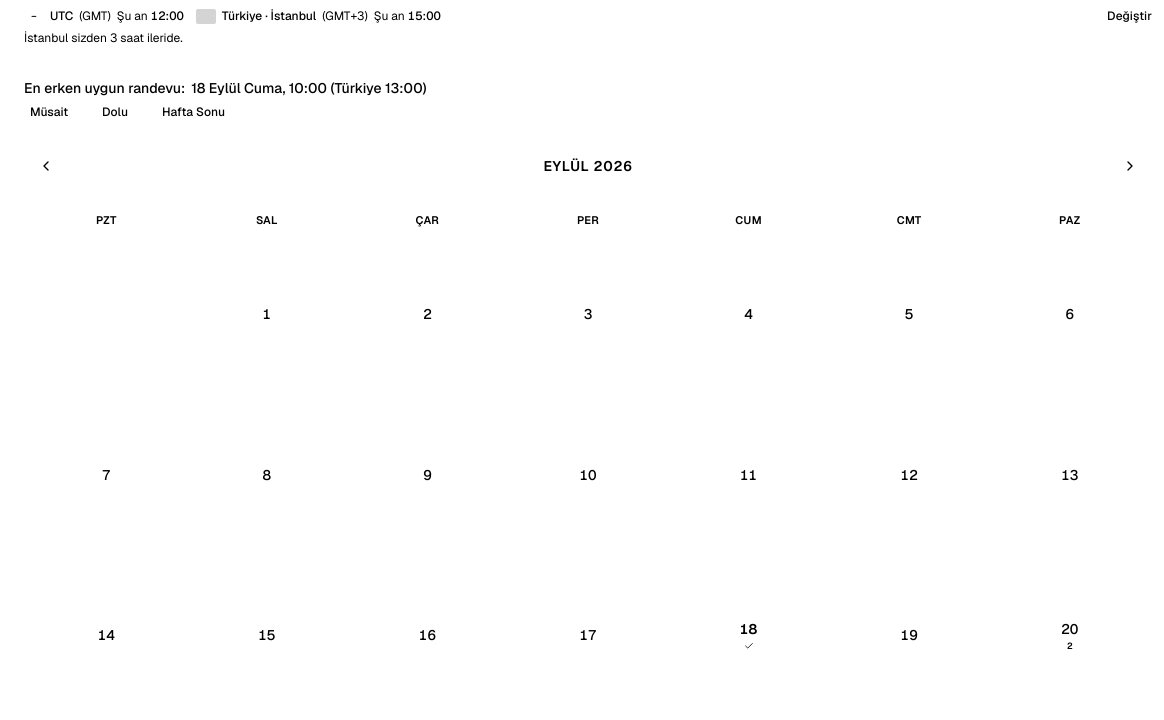
Test case: AvailabilityCalendar › §2.3.2 — kronolojik olarak İLK müsait gün, SEÇİLİ DEĞİLKEN 'en yakın randevu tarihi' (Erken) etiketini taşır
The width and height of the screenshot is (1164, 720).
Click the button labelled "20 2" at (1070, 636), box [991,557,1148,714]
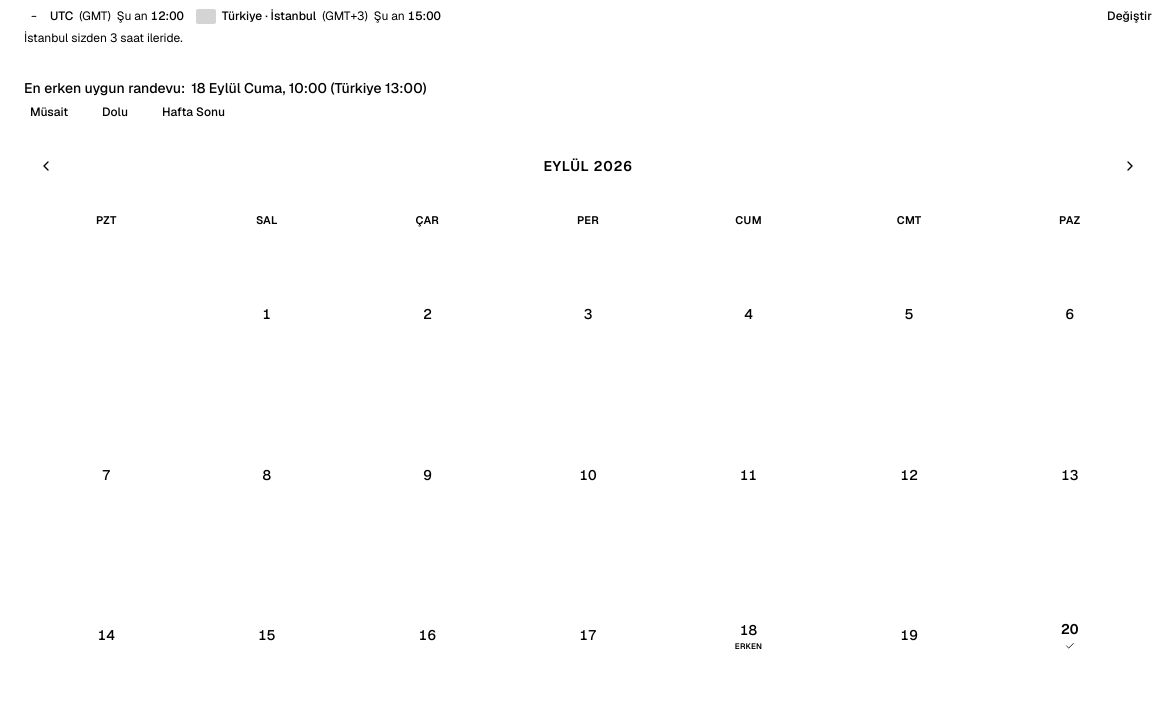
Result: the button labelled "18 Erken" is shown at [670,557,827,714]
Result: the button labelled "20" is shown at [991,557,1148,714]
